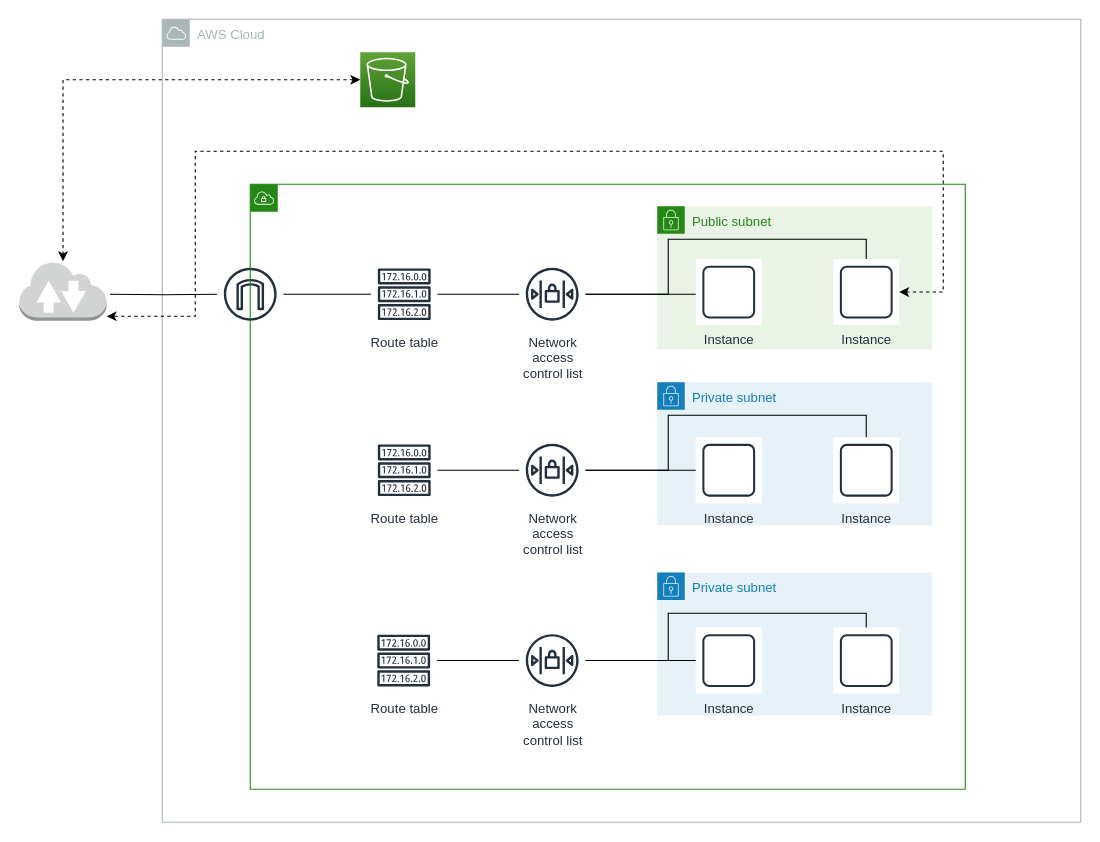
Image size: 1100x842. Some labels were removed from this diagram. Here are the shapes that lost their labels. From the top down, the box of each, then its label:
(359, 51, 415, 107): S3
(18, 260, 107, 321): Internet
(216, 260, 283, 327): Internet gateway
(249, 183, 965, 789): VPC
